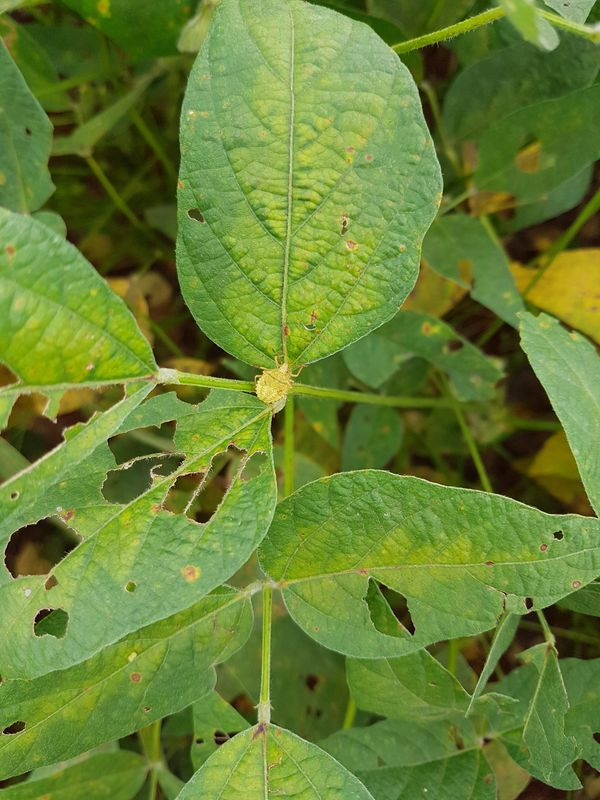Euschistus_heros_ninfa: (248, 353, 308, 414)
